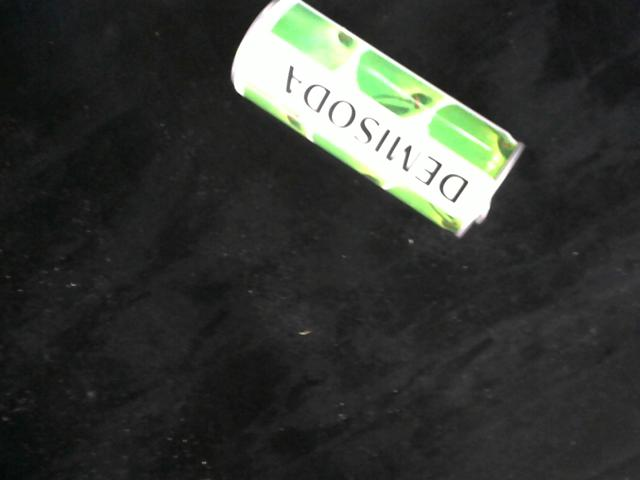can: (228, 0, 527, 242)
